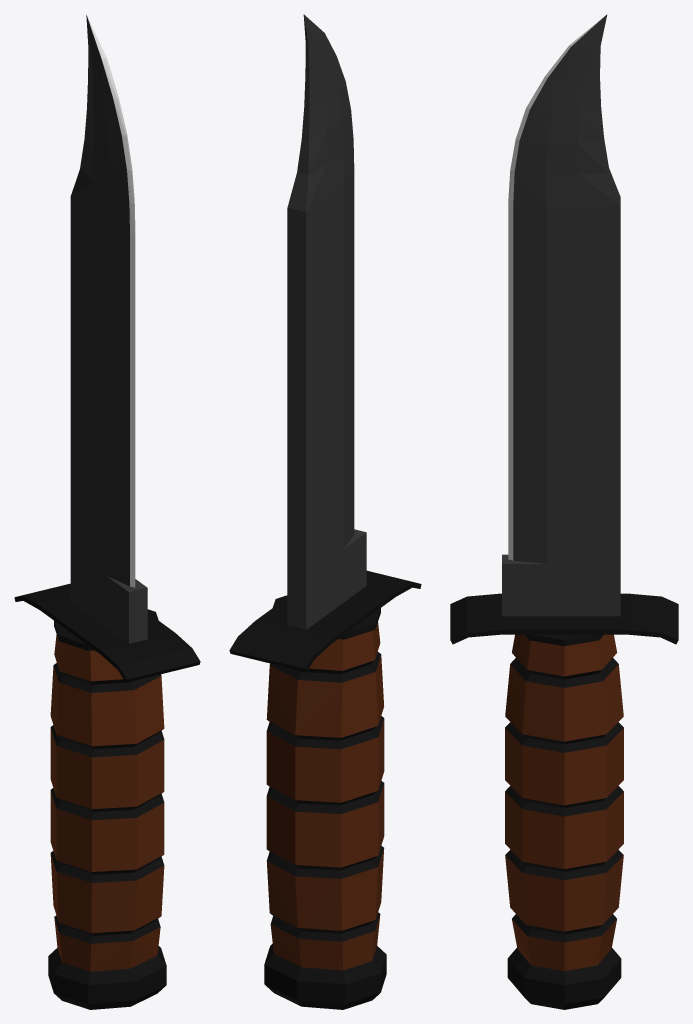
Rendered from KABAR.obj.
3 views of the same model, side by side, from view 1: azimuth 30°, elevation 25°; view 2: azimuth 150°, elevation 25°; view 3: azimuth 270°, elevation 25° (orthographic). The views are drawn at different scales.
Visible parts, largest first — view 1: KABAR_Cylinder; view 2: KABAR_Cylinder; view 3: KABAR_Cylinder.
Boxes of the visible parts, x1,y1,x2,y2 form: KABAR_Cylinder: (14, 14, 200, 1009); KABAR_Cylinder: (229, 14, 421, 1009); KABAR_Cylinder: (450, 14, 678, 1009).
Size of the model in its own units: 0.0413 by 0.3529 by 0.0749.
